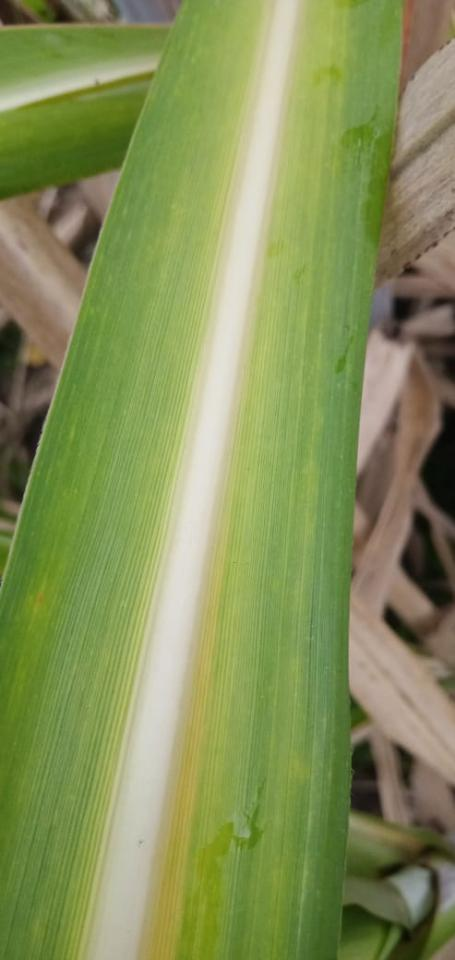Yellow: (138, 540, 227, 959)
